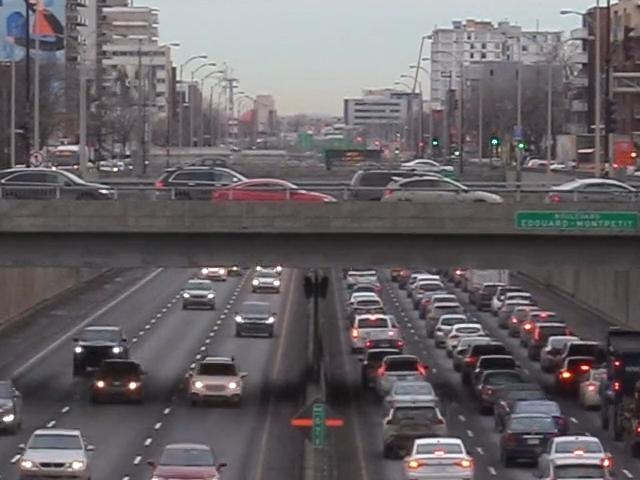car: (0, 165, 122, 201), (379, 398, 448, 459), (180, 355, 255, 409), (18, 429, 95, 480), (498, 398, 569, 453), (541, 339, 604, 398), (143, 439, 232, 480), (71, 324, 131, 382), (538, 433, 609, 480), (400, 438, 479, 480), (469, 364, 533, 414), (217, 177, 335, 203), (90, 358, 149, 407), (158, 166, 233, 201), (371, 352, 432, 394), (456, 340, 510, 386), (404, 180, 507, 204), (439, 323, 493, 368), (546, 178, 640, 202), (523, 318, 571, 362), (347, 167, 404, 201), (383, 173, 459, 198), (232, 301, 283, 338), (350, 312, 397, 350), (532, 459, 616, 480), (423, 293, 466, 329), (494, 291, 536, 326), (505, 306, 546, 337), (180, 281, 220, 310), (0, 376, 18, 439), (347, 289, 385, 316), (471, 281, 506, 310), (399, 158, 449, 178), (406, 273, 444, 299), (250, 270, 284, 295), (345, 269, 380, 292), (199, 263, 231, 281), (99, 159, 131, 174), (389, 266, 412, 285), (222, 263, 247, 279), (450, 267, 469, 286), (546, 161, 572, 173), (524, 159, 548, 171)
truck: (600, 325, 640, 445)
